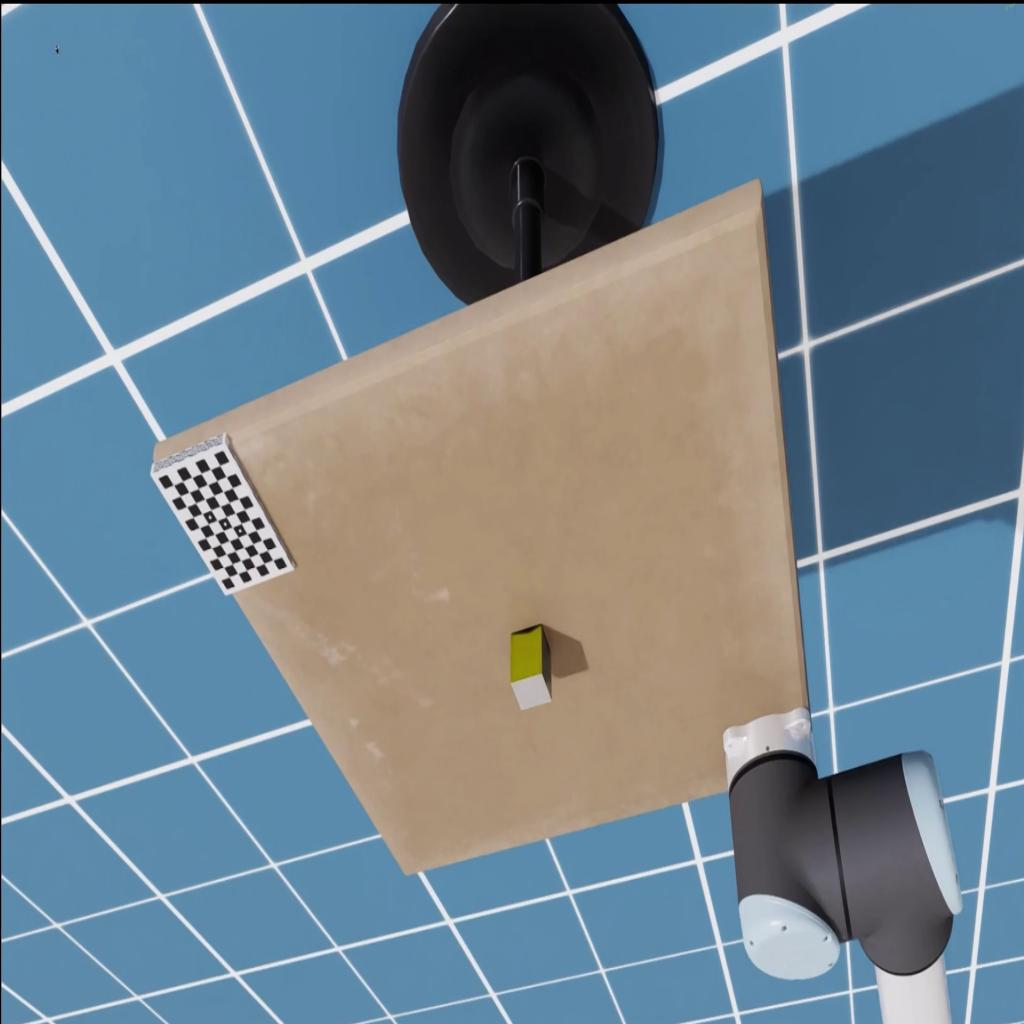Cube: (509, 624, 551, 710)
QR: (150, 430, 296, 598)
Robot: (721, 708, 962, 1024)
Table: (152, 177, 816, 873)
